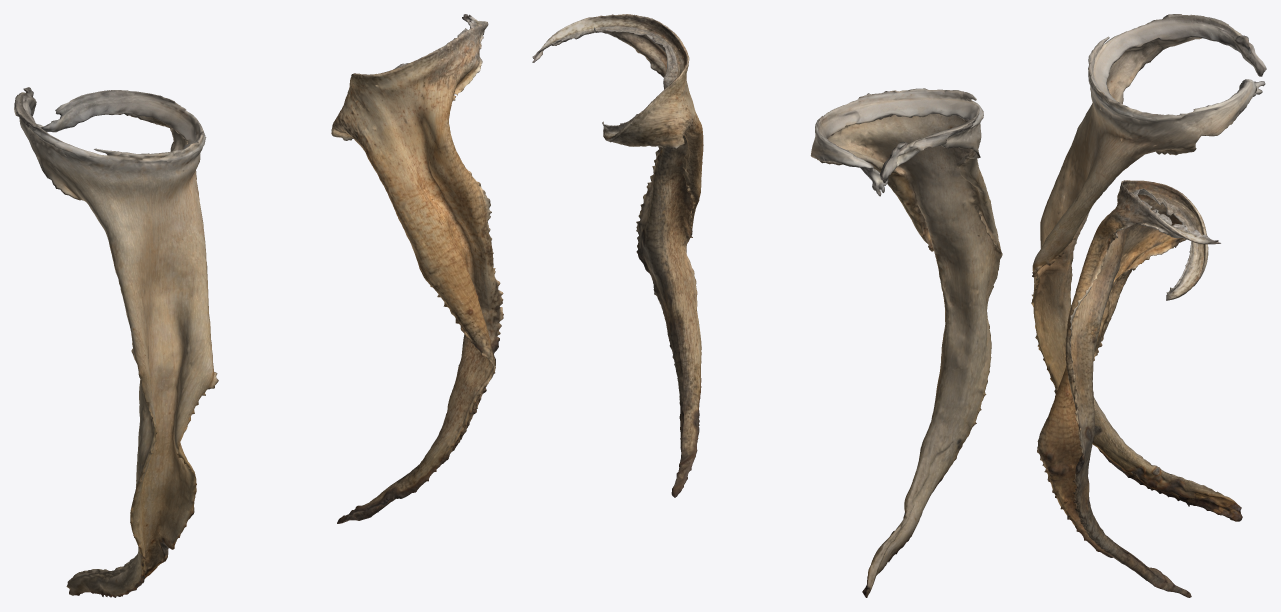
The model's file is dry_quiver_leaf.glb.
The picture shows the model from 3 angles, left to right: view 1: azimuth 30°, elevation 25°; view 2: azimuth 150°, elevation 25°; view 3: azimuth 270°, elevation 25°; orthographic projection. The views are drawn at different scales.
Visible parts, largest first — view 1: dry_quiver_leaf_a, dry_quiver_leaf_b; view 2: dry_quiver_leaf_a, dry_quiver_leaf_b; view 3: dry_quiver_leaf_a, dry_quiver_leaf_b.
Boxes of the visible parts, x1,y1,x2,y2 form: dry_quiver_leaf_a: (14,87,218,597); dry_quiver_leaf_b: (331,14,503,523); dry_quiver_leaf_a: (810,88,1002,597); dry_quiver_leaf_b: (532,14,703,497); dry_quiver_leaf_a: (1031,14,1266,521); dry_quiver_leaf_b: (1037,180,1220,597).
Size of the model in its own units: 0.3967 by 0.425 by 0.1918.
1 material, 1 textured.
